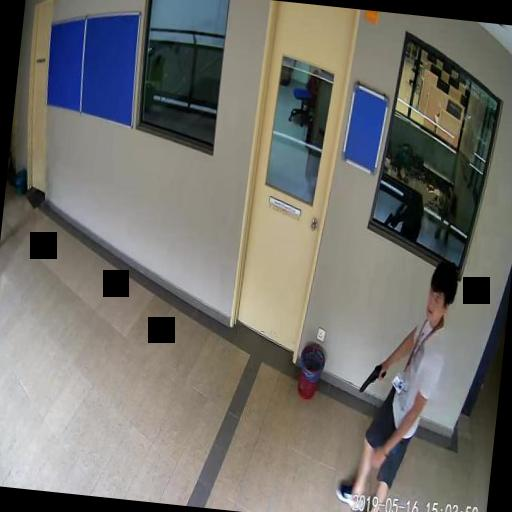Handgun: (358, 360, 386, 392)
